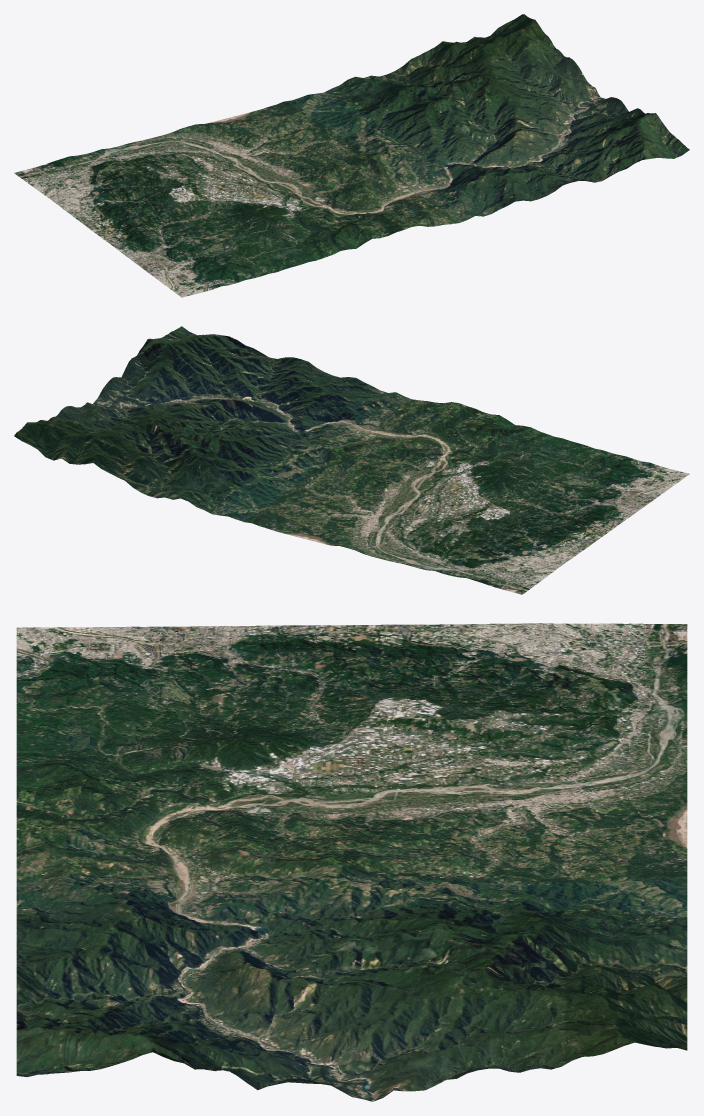
File: dajia-basin.glb
3 renders of one model, top to bottom at view 1: azimuth 30°, elevation 25°; view 2: azimuth 150°, elevation 25°; view 3: azimuth 270°, elevation 25°, orthographic. The views are drawn at different scales.
Visible parts, largest first — view 1: EXPORT_GOOGLE_SAT_WM.001; view 2: EXPORT_GOOGLE_SAT_WM.001; view 3: EXPORT_GOOGLE_SAT_WM.001.
Part boxes in pixels (x1,y1,x2,y2): EXPORT_GOOGLE_SAT_WM.001: [14, 14, 689, 297]; EXPORT_GOOGLE_SAT_WM.001: [14, 326, 689, 594]; EXPORT_GOOGLE_SAT_WM.001: [16, 623, 687, 1101].
Size of the model in its own units: 34244 by 2611 by 19568.
Materials: 1 (1 with a texture image).
